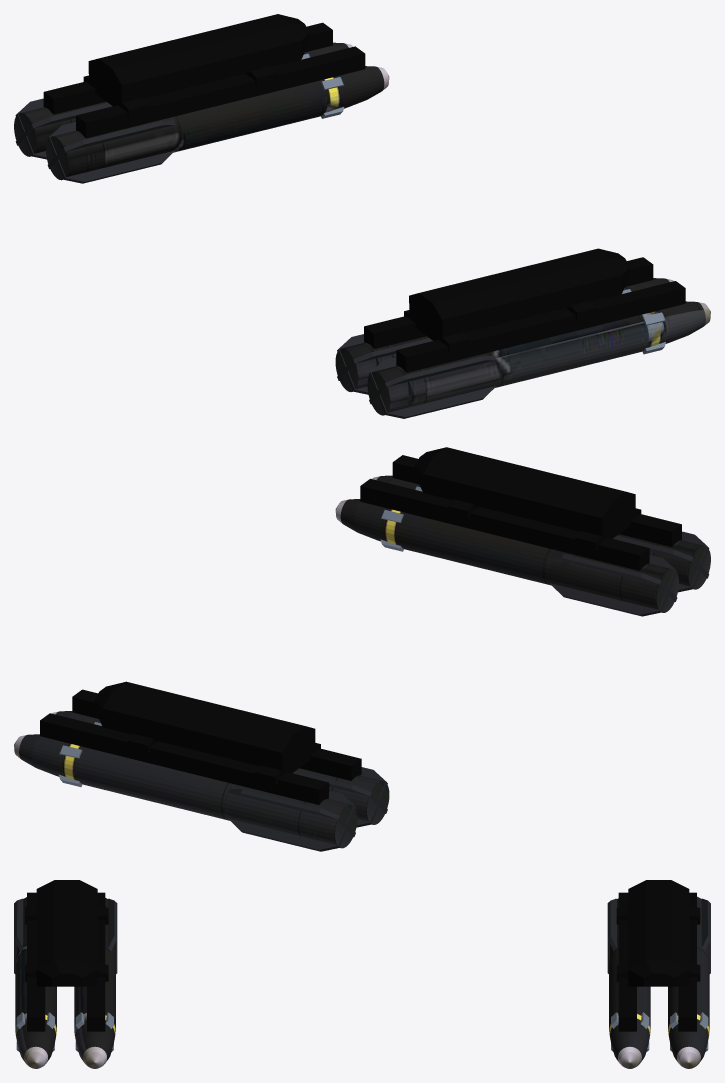
The model's file is mq9bagm11414.glb.
3 views of the same model, one above another, from view 1: azimuth 30°, elevation 25°; view 2: azimuth 150°, elevation 25°; view 3: azimuth 270°, elevation 25° (orthographic). The views are drawn at different scales.
Visible parts, largest first — view 1: 立方体.006, 立方体.001, 円柱.001, 円柱.008, 円柱.007, 円柱.002; view 2: 立方体.001, 立方体.006, 円柱.007, 円柱.002, 円柱.008, 円柱.001; view 3: 立方体.006, 立方体.001, 円柱.007, 円柱.001, 円柱.002, 円柱.008.
Boxes of the visible parts, left/top/right/bottom form: 立方体.006: left=43, top=14, right=365, bottom=138; 立方体.001: left=364, top=248, right=685, bottom=372; 円柱.001: left=367, top=301, right=710, bottom=418; 円柱.008: left=46, top=66, right=389, bottom=183; 円柱.007: left=14, top=42, right=353, bottom=159; 円柱.002: left=335, top=278, right=673, bottom=394; 立方体.001: left=360, top=447, right=681, bottom=570; 立方体.006: left=40, top=681, right=361, bottom=804; 円柱.007: left=14, top=734, right=357, bottom=851; 円柱.002: left=335, top=499, right=678, bottom=616; 円柱.008: left=51, top=711, right=389, bottom=827; 円柱.001: left=372, top=475, right=710, bottom=592; 立方体.006: left=616, top=880, right=700, bottom=1031; 立方体.001: left=25, top=880, right=108, bottom=1031; 円柱.007: left=668, top=896, right=710, bottom=1068; 円柱.001: left=14, top=897, right=56, bottom=1068; 円柱.002: left=74, top=898, right=117, bottom=1068; 円柱.008: left=607, top=898, right=650, bottom=1068.
Bounding box in the file's own units: 1.92 × 0.4978 × 3.78.
Materials: 4 (1 with a texture image).
